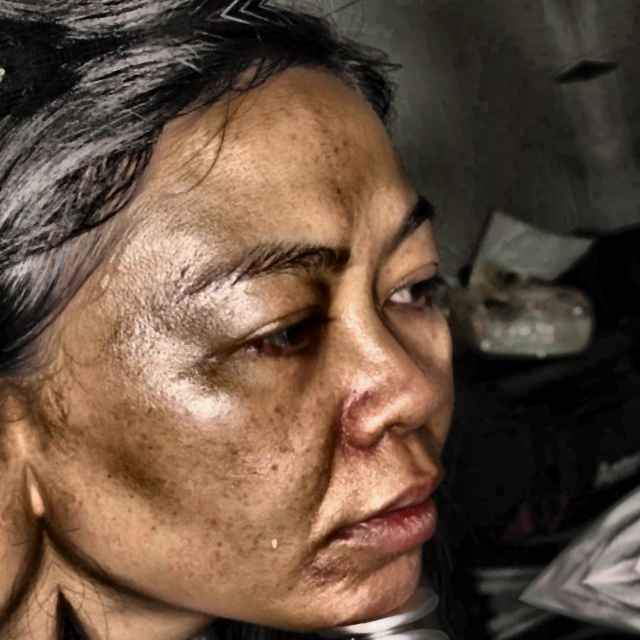comedone: (307, 550, 356, 592)
